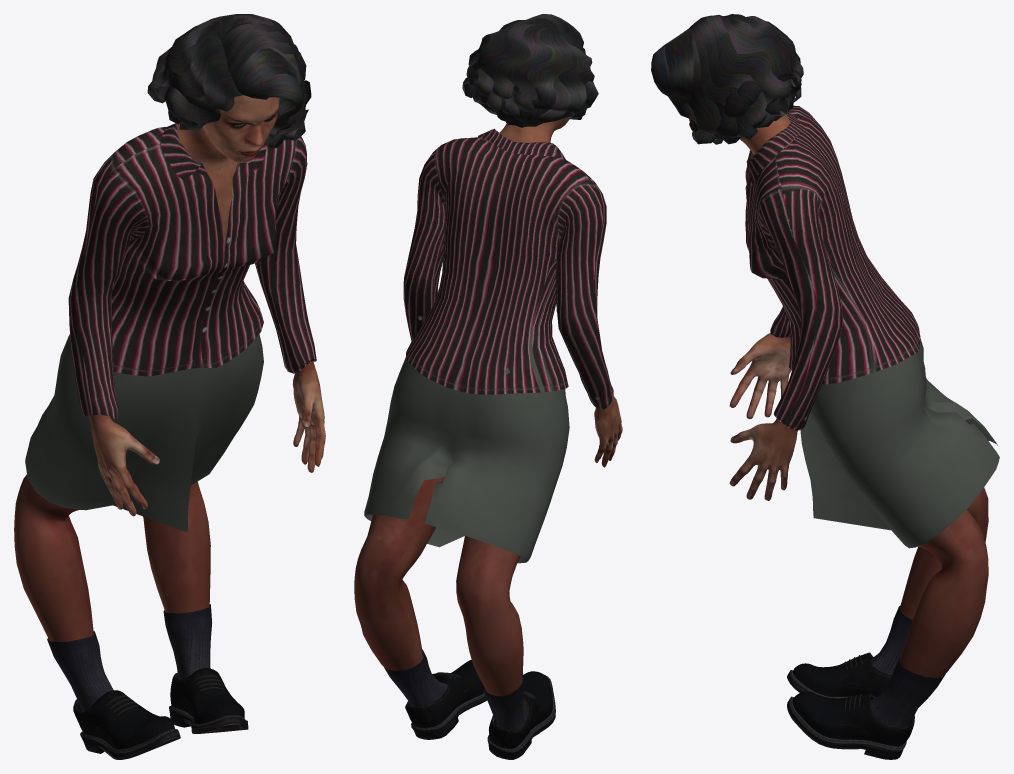
Rendered from donna-03.glb.
The picture shows the model from 3 angles, left to right: view 1: azimuth 30°, elevation 25°; view 2: azimuth 150°, elevation 25°; view 3: azimuth 270°, elevation 25°; orthographic projection. The views are drawn at different scales.
Parts seen in each view (by area): view 1: Human.female_elegantsuit01, Human, Human.elvs_wavy_bob, Human.shoes03; view 2: Human.female_elegantsuit01, Human, Human.elvs_wavy_bob, Human.shoes03; view 3: Human.female_elegantsuit01, Human, Human.elvs_wavy_bob, Human.shoes03.
Boxes of the visible parts, bbox=[...] form: Human.female_elegantsuit01: bbox=[25, 123, 316, 532]; Human: bbox=[14, 95, 325, 641]; Human.elvs_wavy_bob: bbox=[147, 14, 311, 148]; Human.shoes03: bbox=[47, 604, 248, 759]; Human.female_elegantsuit01: bbox=[364, 128, 613, 563]; Human: bbox=[354, 118, 622, 696]; Human.elvs_wavy_bob: bbox=[462, 14, 598, 127]; Human.shoes03: bbox=[384, 649, 555, 759]; Human.female_elegantsuit01: bbox=[745, 105, 999, 548]; Human: bbox=[689, 114, 988, 678]; Human.elvs_wavy_bob: bbox=[651, 14, 803, 144]; Human.shoes03: bbox=[787, 605, 945, 759].
Bounding box in the file's own units: 0.4524 × 1.47 × 0.6481.
12 materials, 12 textured.
